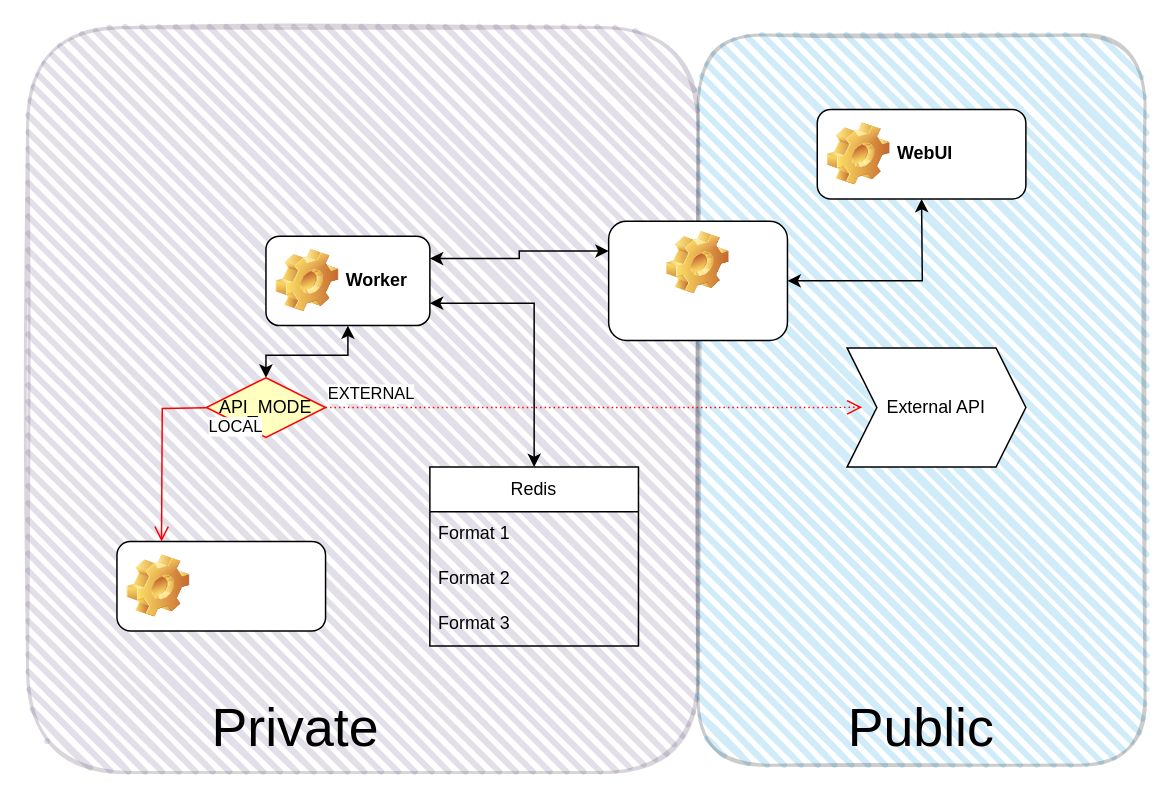
The diagram is 1171 pixels wide and 799 high, and some of its shapes have lost their labels. The shapes that lost their labels are listed below. From the top down, each one's box as (x1, y1, x2, y2) in pixels, then its label:
(607, 220, 787, 340): API
(115, 540, 326, 631): Ollama
